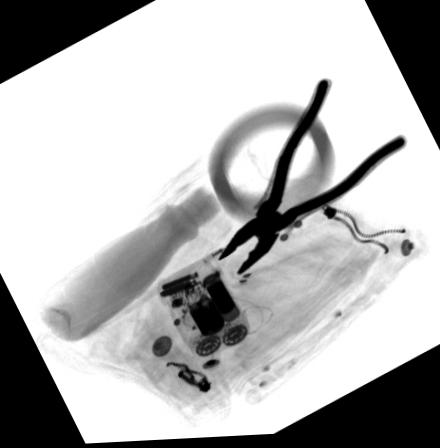Pliers: (214, 78, 406, 277)
